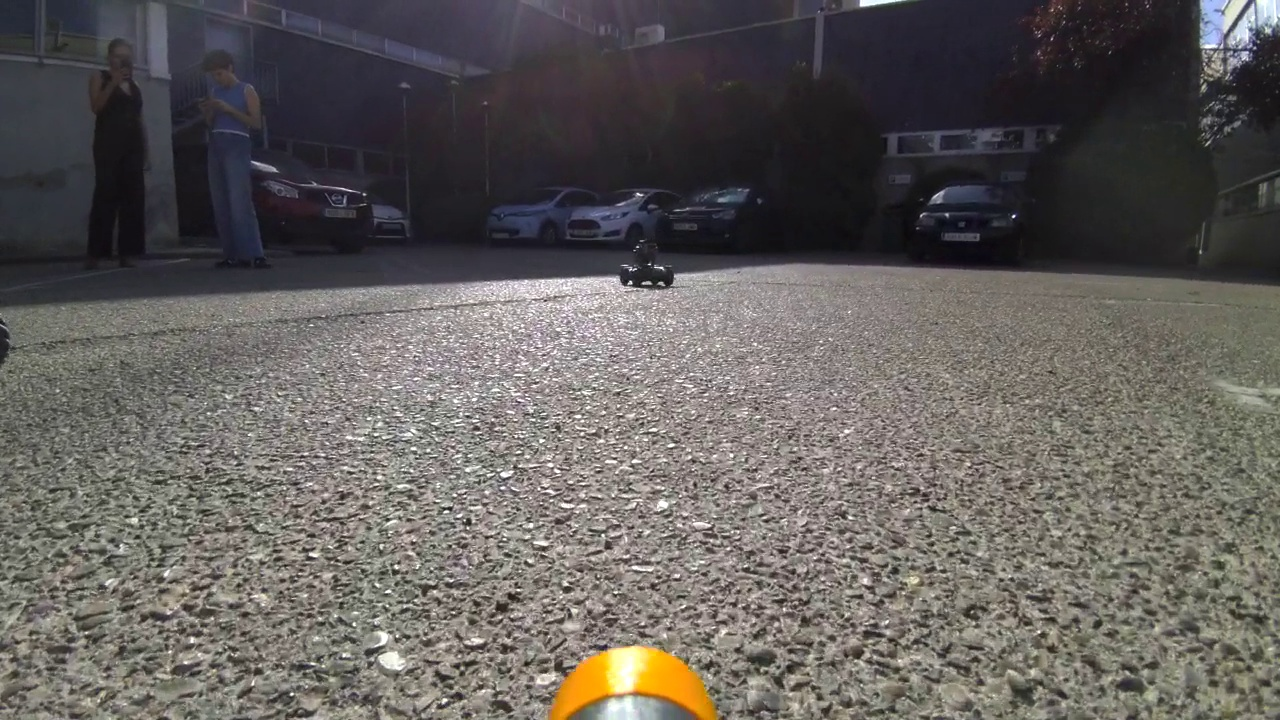robot: (611, 233, 682, 300)
